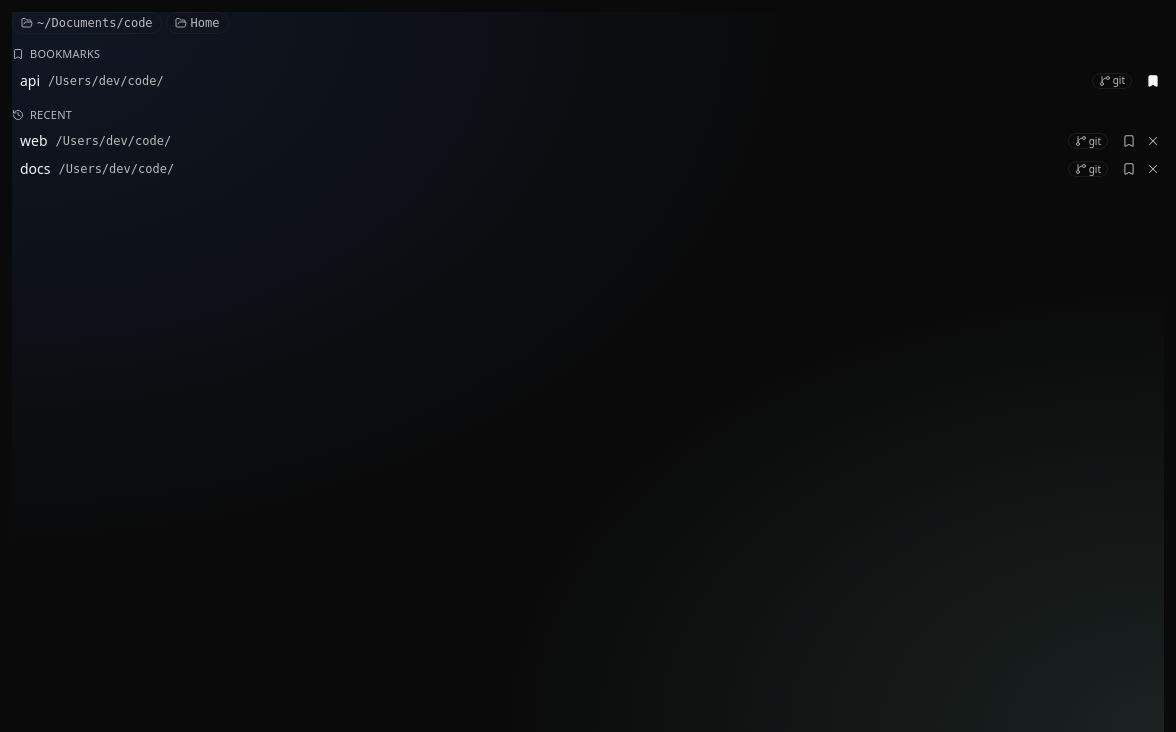
Scenario: ProjectShortcuts bookmarks › bookmarks a recent project into Bookmarks and removes it again
Check: the button named "Remove bookmark from api" is shown, box [1142,70,1164,92]
Click the button named "Bookmark web".
click(1129, 141)  # box [1118,130,1140,152]
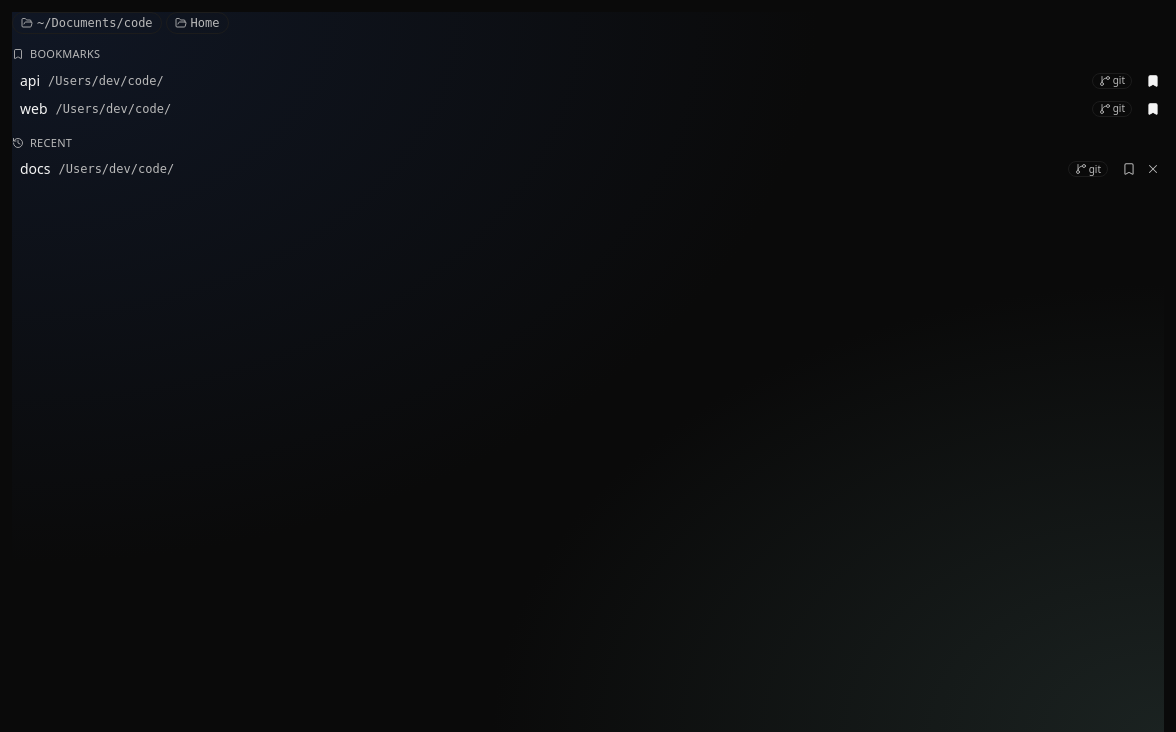
Check: the button named "Remove bookmark from web" is pressed
Click the button named "Remove bookmark from web".
click(1153, 108)  # box [1142,98,1164,120]
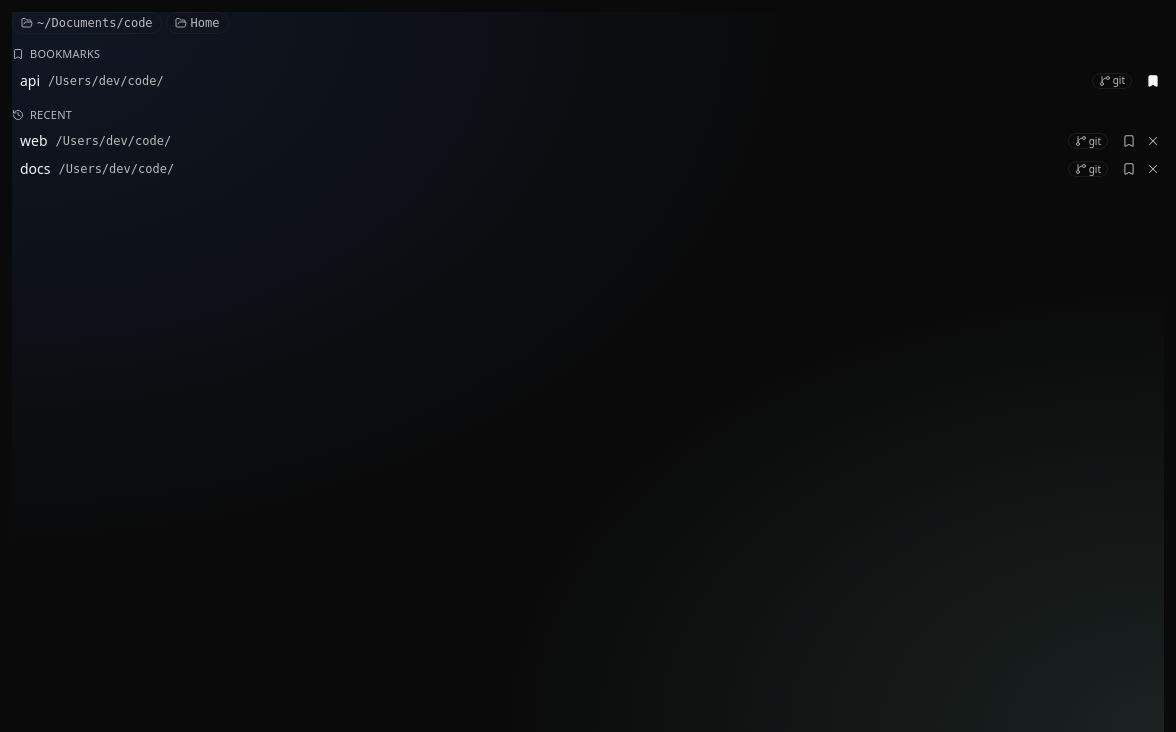
Check: the button named "Bookmark web" is shown, box [1118,130,1140,152]
